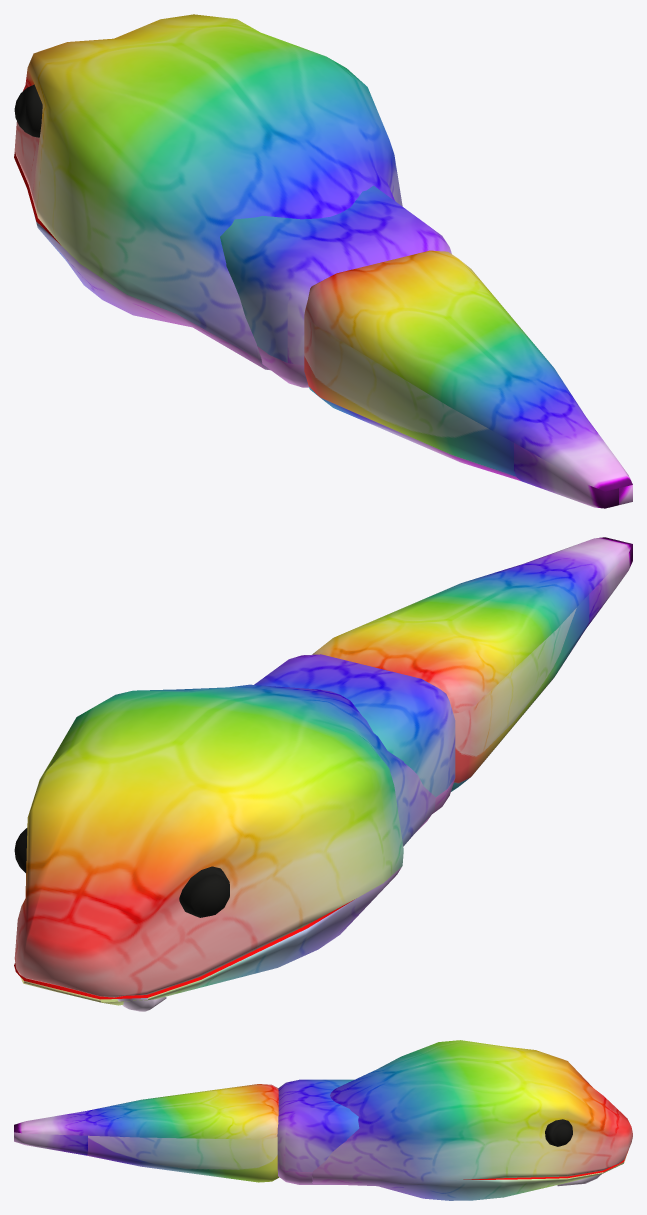
File: model-snakeclash.glb
3 renders of one model, top to bottom at view 1: azimuth 30°, elevation 25°; view 2: azimuth 150°, elevation 25°; view 3: azimuth 270°, elevation 25°, orthographic. The views are drawn at different scales.
Parts seen in each view (by area): view 1: SnakeClashMesh; view 2: SnakeClashMesh; view 3: SnakeClashMesh.
Boxes of the visible parts, x1,y1,x2,y2 form: SnakeClashMesh: [14, 14, 632, 508]; SnakeClashMesh: [14, 537, 632, 1011]; SnakeClashMesh: [14, 1040, 632, 1200].
Size of the model in its own units: 2.04 by 1.36 by 6.57.
Materials: 1 (1 with a texture image).
